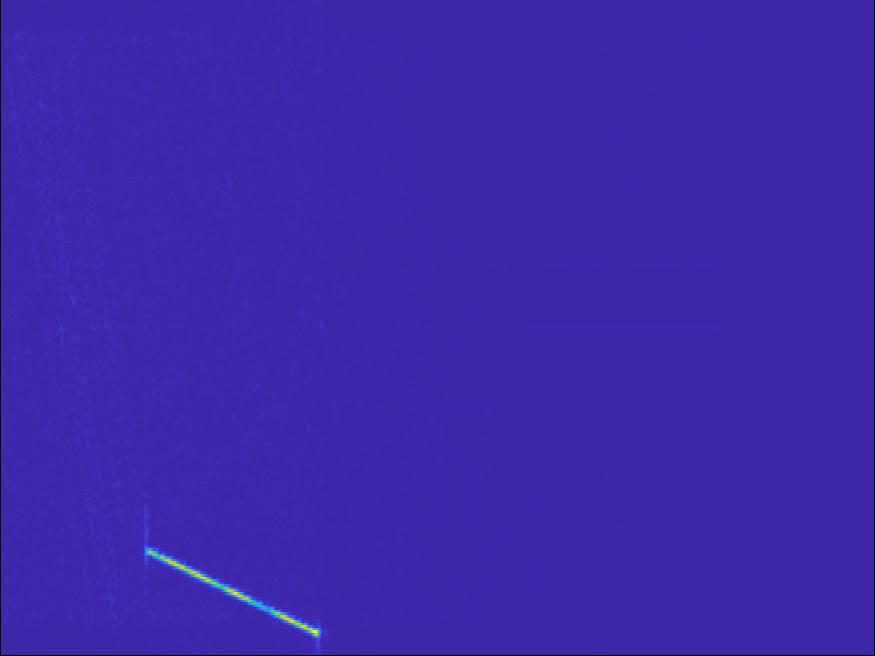Interference: (440, 1, 670, 186), (472, 380, 657, 520), (518, 292, 644, 369), (775, 304, 875, 351), (404, 296, 493, 341)
